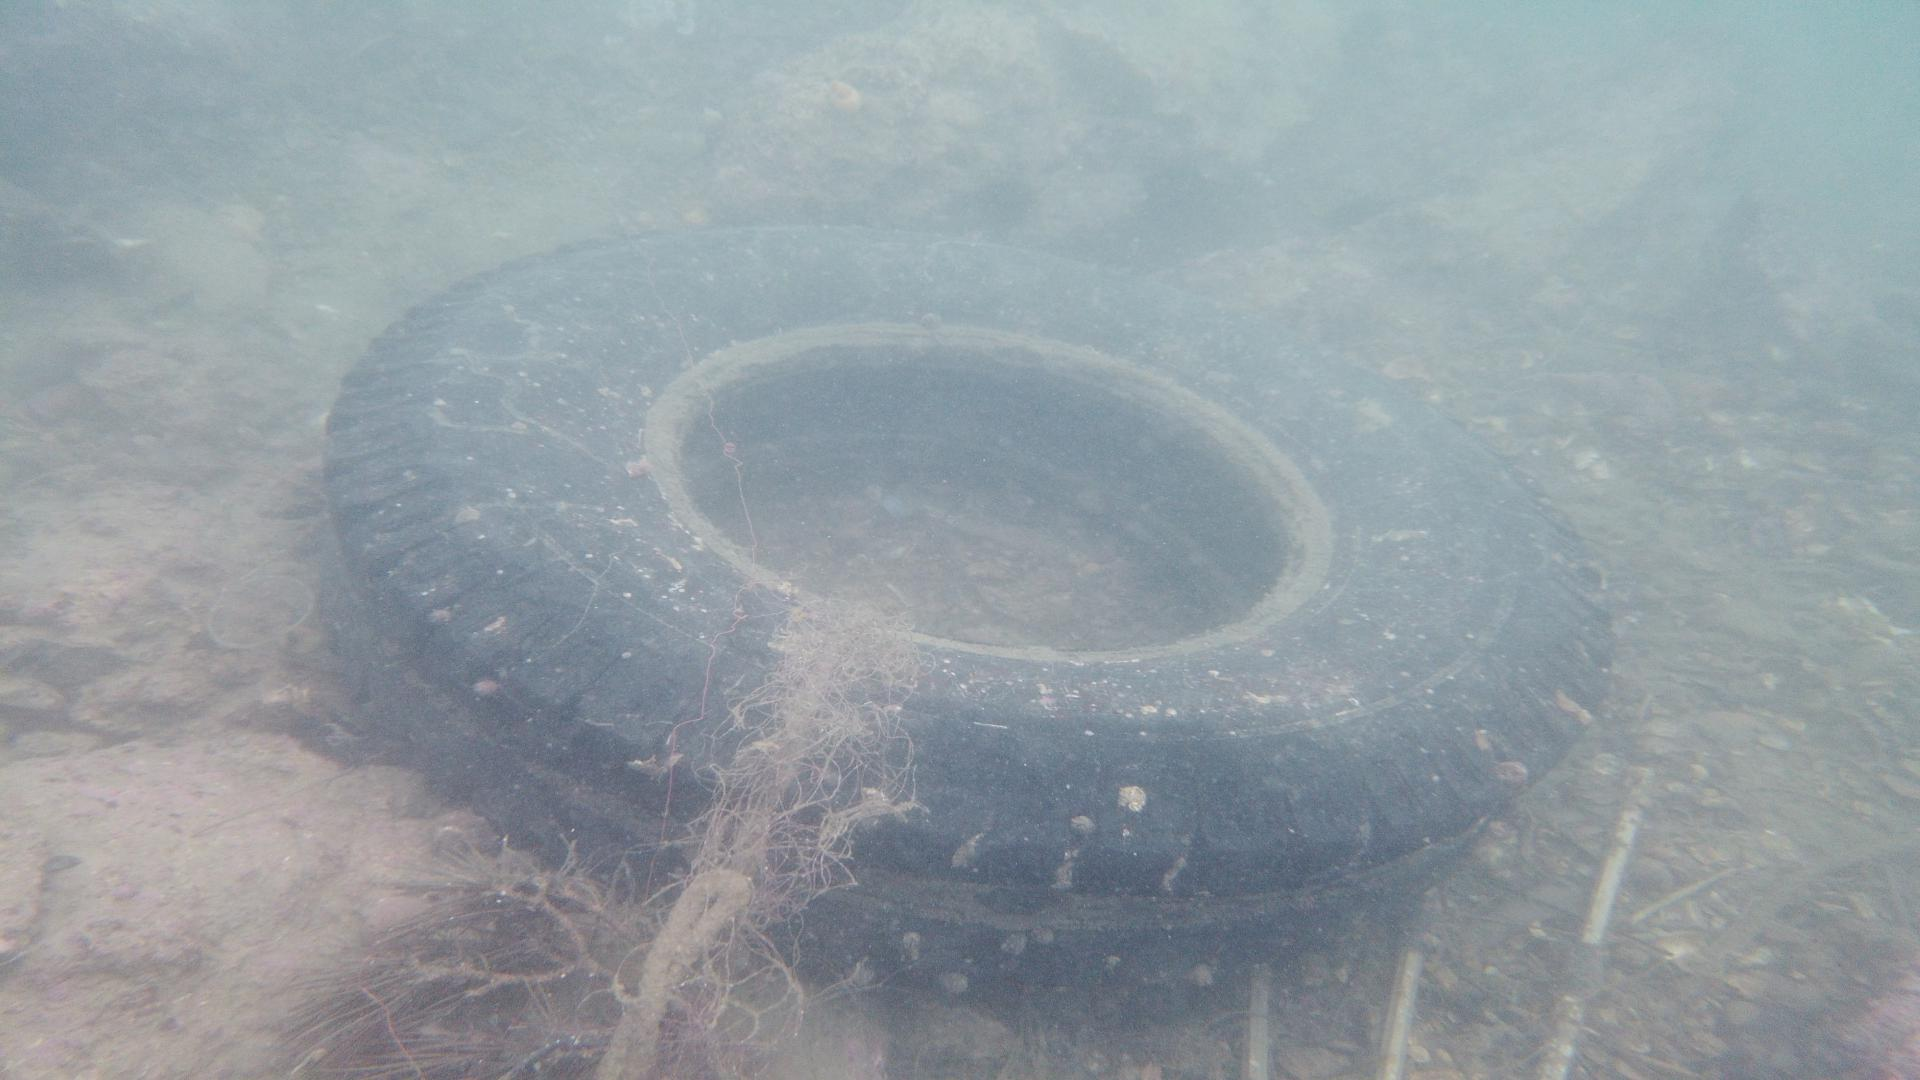rope: (579, 860, 761, 1080)
tire: (314, 222, 1619, 1011)
